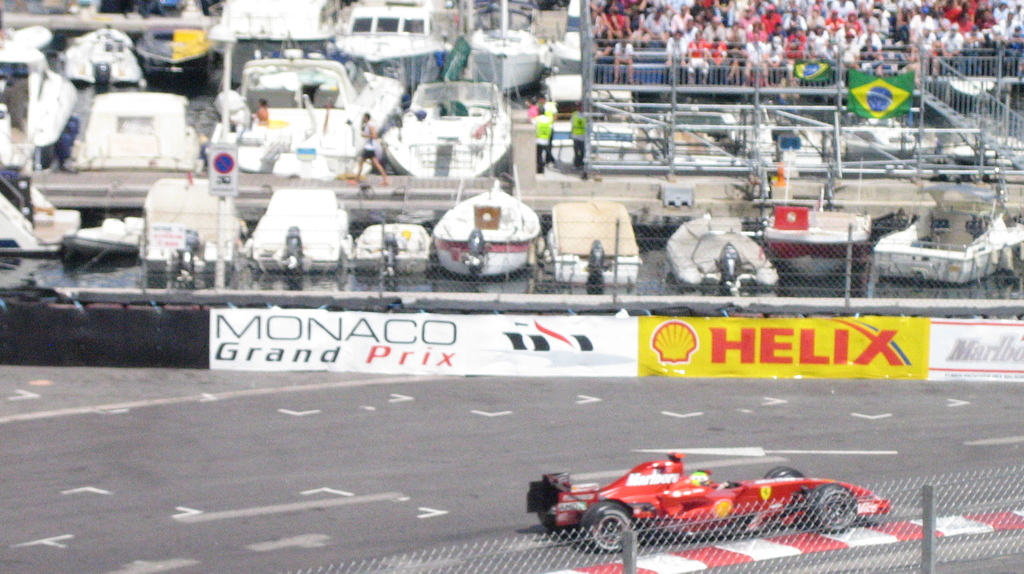Car: (526, 443, 939, 552)
